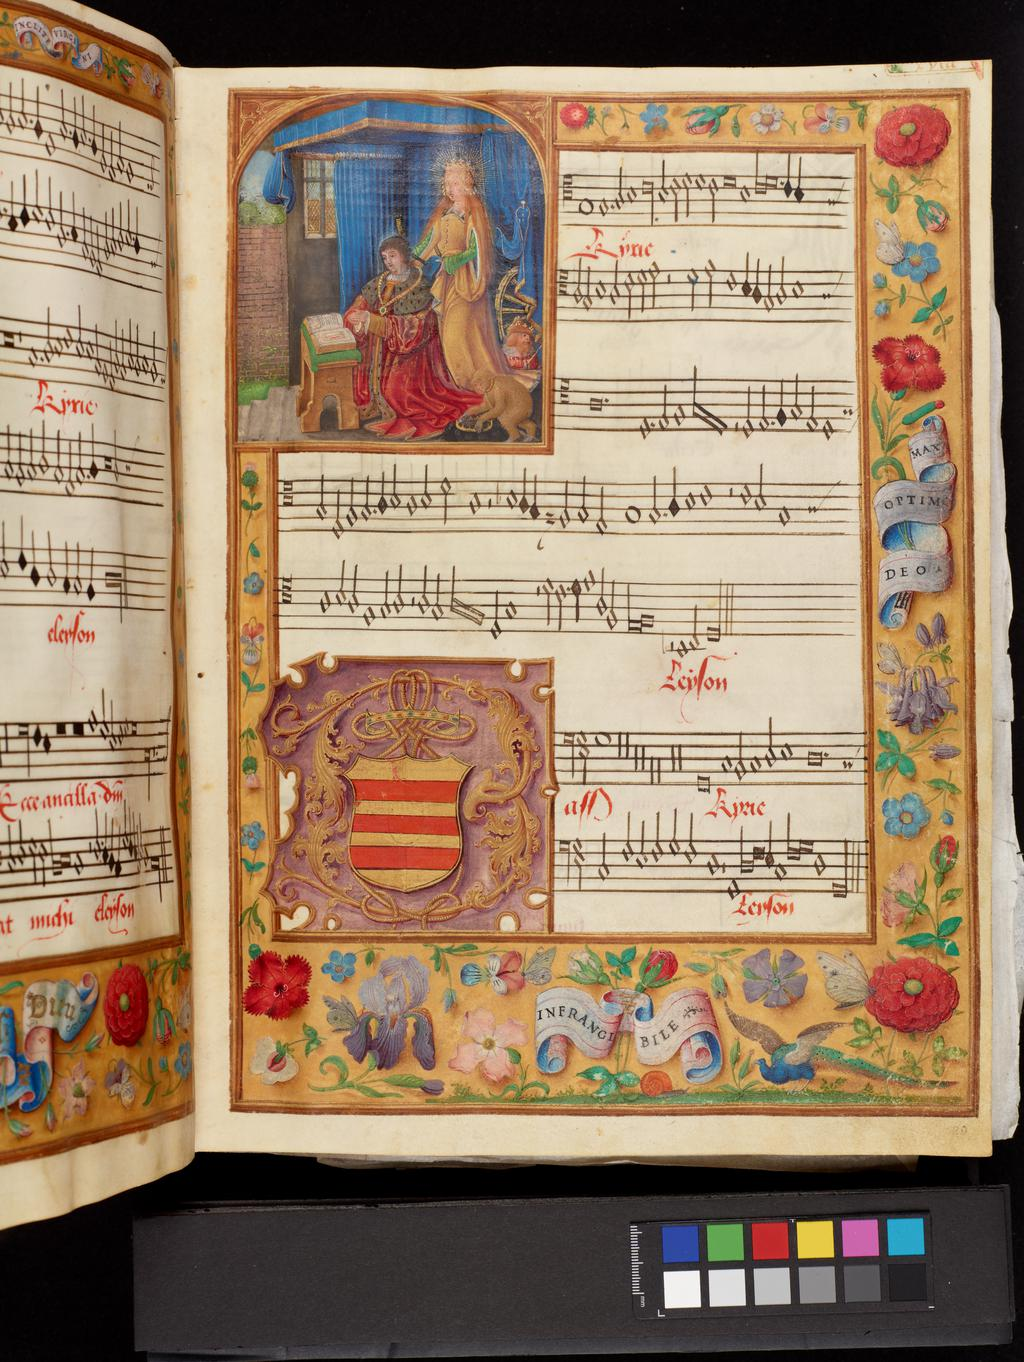3: (536, 503, 557, 552)
Pmin: (618, 495, 645, 534)
c clef_5: (279, 467, 298, 511)
custos_7: (802, 486, 831, 519)
flat_6: (490, 476, 503, 509)
minim rest: (724, 467, 736, 533), (485, 470, 494, 534)
minim_10: (592, 477, 610, 541)
minim_11: (329, 479, 345, 542)
minim_4: (438, 467, 454, 511)
minim_6: (752, 455, 768, 511), (419, 458, 433, 513), (387, 459, 401, 511)
minim_8: (645, 468, 662, 530), (313, 467, 329, 526), (574, 466, 591, 524), (360, 470, 374, 527)
minim_9: (556, 473, 573, 534), (344, 471, 360, 531)
point: (659, 506, 670, 523), (369, 502, 379, 517)
semibreve_5: (736, 473, 754, 510), (696, 480, 716, 512)
semibreve_6: (682, 481, 698, 511)
semibreve_7: (464, 482, 484, 524), (403, 487, 421, 524), (503, 480, 512, 516)
semibreve_8: (776, 494, 796, 534)
semiminim_7: (666, 460, 684, 517), (516, 463, 531, 521), (376, 464, 390, 520)
semiminim_8: (528, 470, 541, 526)
